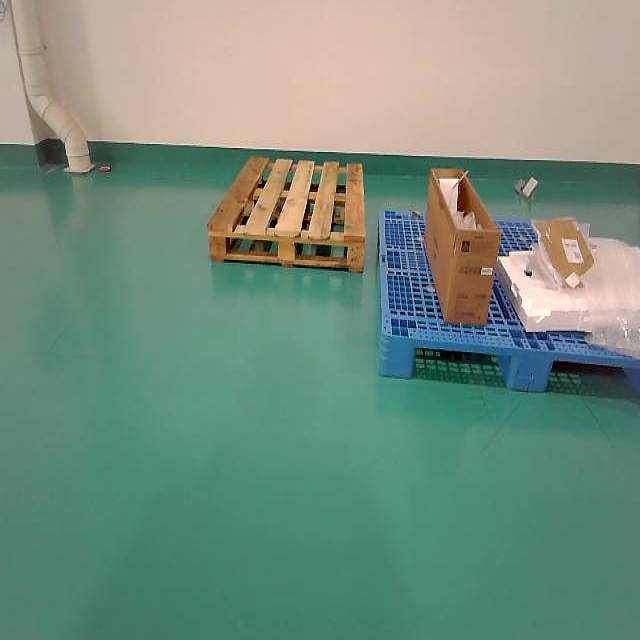euro: (208, 157, 364, 272)
